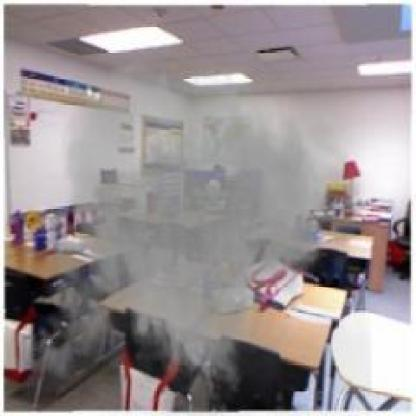Smoke: (24, 55, 374, 414)
